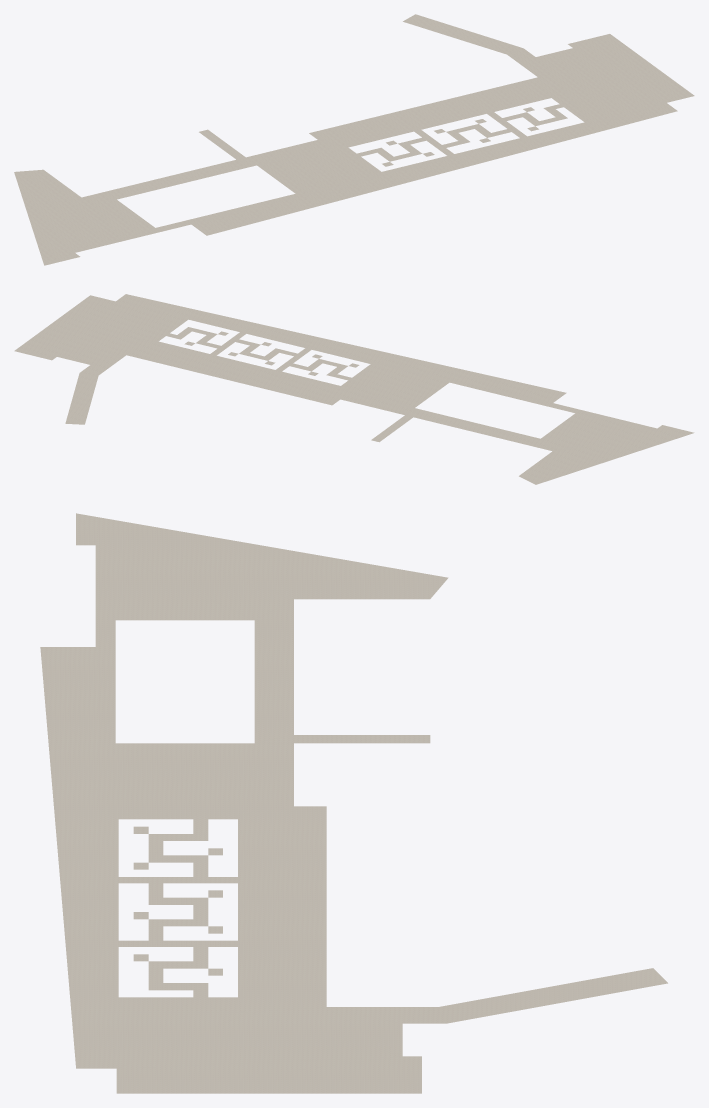
Rendered from Asfalto di carta.glb.
3 renders of one model, top to bottom at view 1: azimuth 30°, elevation 25°; view 2: azimuth 150°, elevation 25°; view 3: azimuth 270°, elevation 25°, orthographic. The views are drawn at different scales.
Parts seen in each view (by area): view 1: Asfalto_percorribile_3; view 2: Asfalto_percorribile_3; view 3: Asfalto_percorribile_3.
Part boxes in pixels (x1=…): Asfalto_percorribile_3: x1=14, y1=14, x2=694, y2=265; Asfalto_percorribile_3: x1=14, y1=294, x2=694, y2=484; Asfalto_percorribile_3: x1=40, y1=513, x2=667, y2=1093.
Size of the model in its own units: 230 by 1.77e-05 by 105.
Materials: 1 (1 with a texture image).
